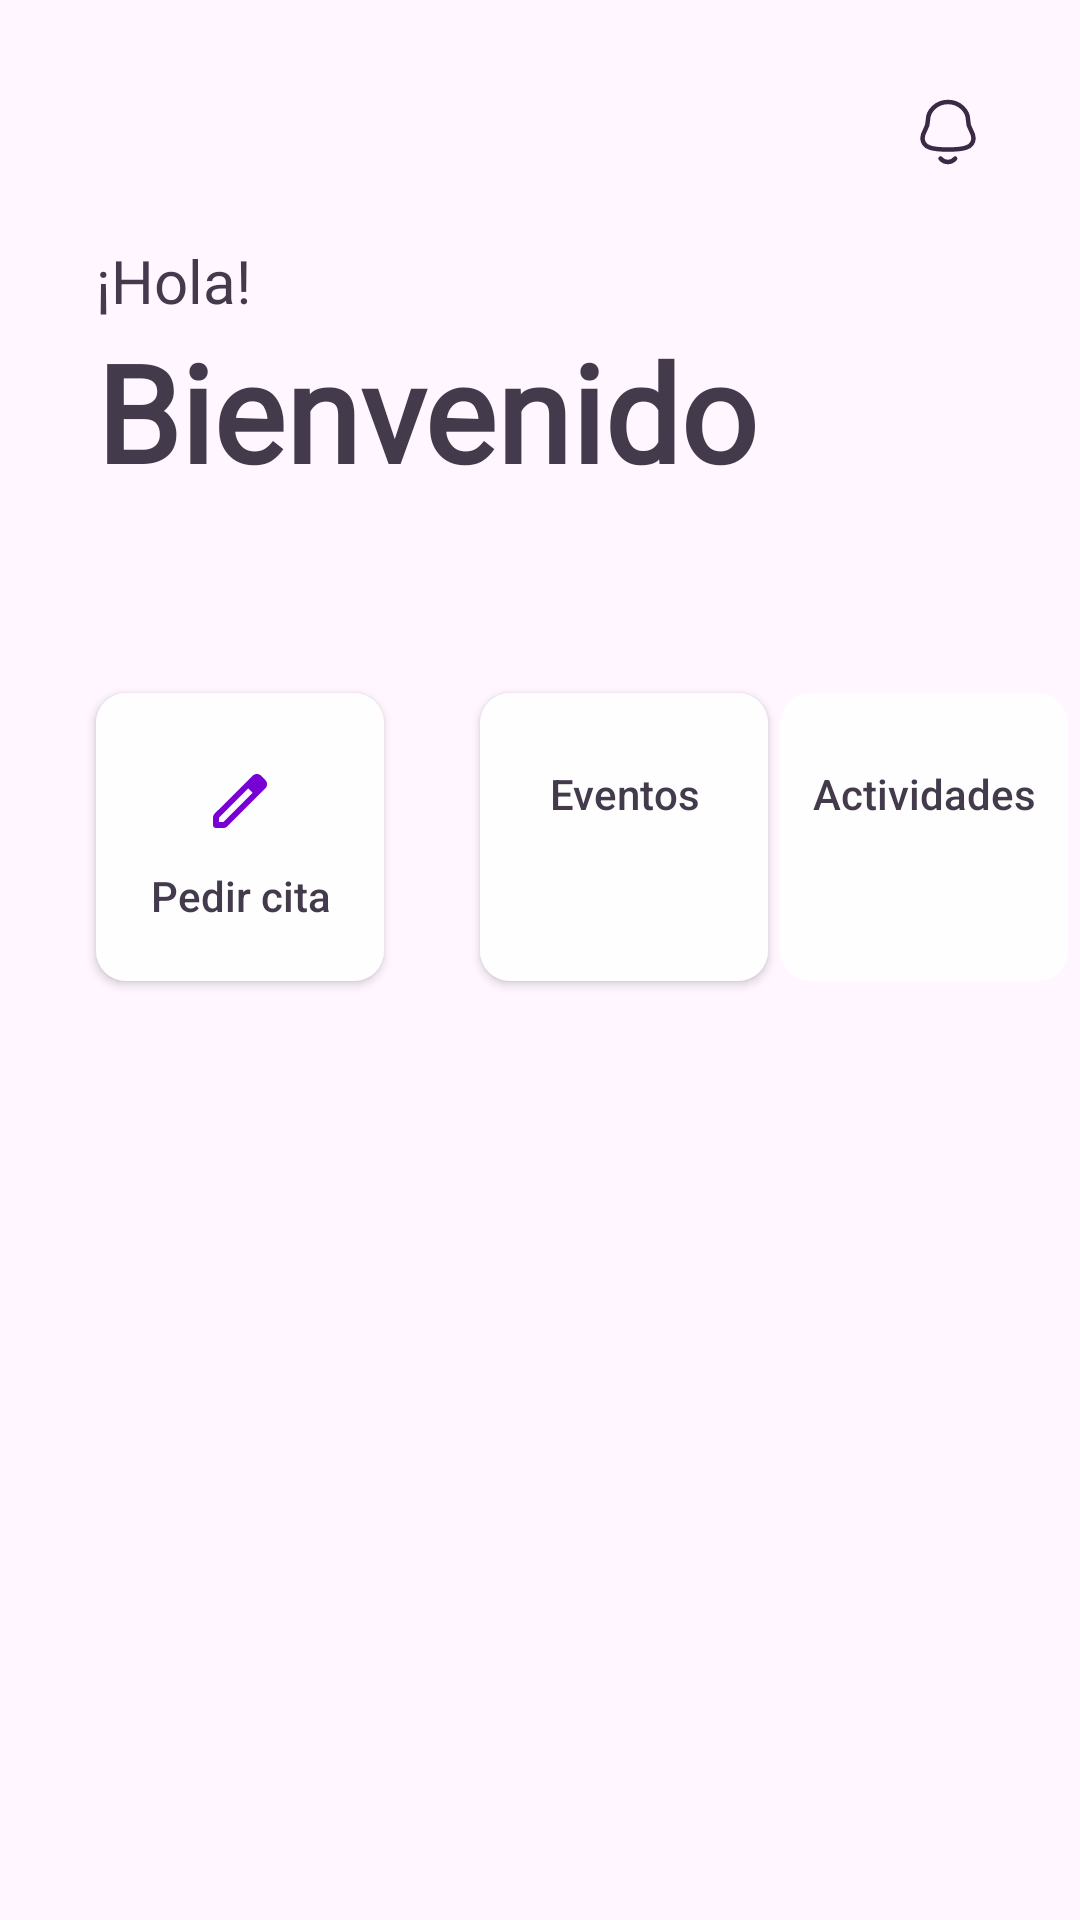

Where icons sit on this 1080px×1920px app screen, as (x1, y1, x2, y2):
noti: (920, 99, 976, 165)
